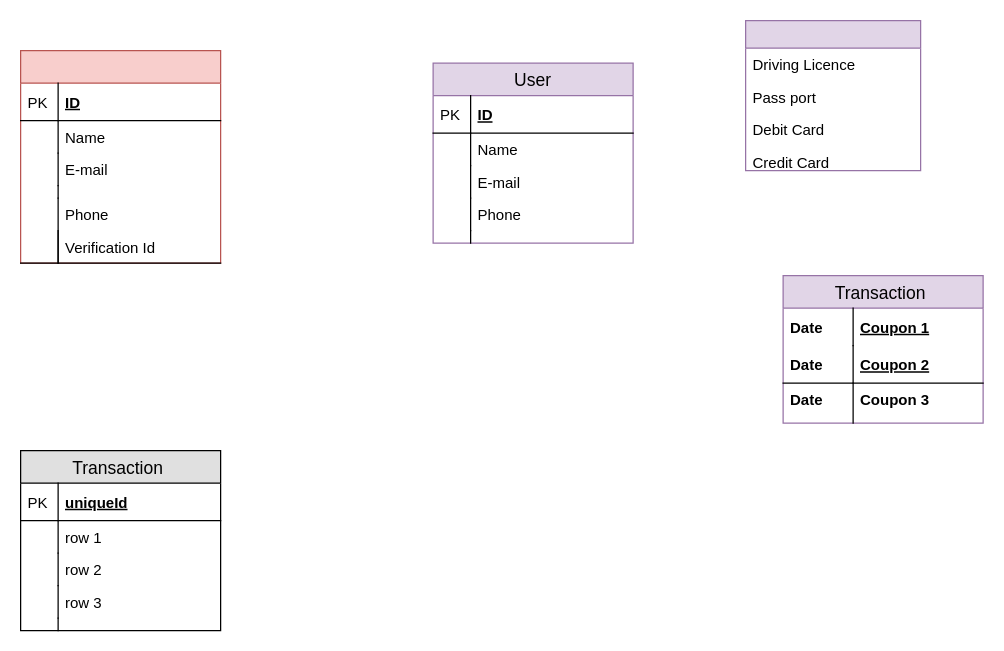
This 1004x651 diagram has some shape labels left out. Here are the shapes that lost their labels. From the top down, the box of each, then its label:
(744, 19, 921, 171): Documents
(19, 49, 221, 263): Merchant
